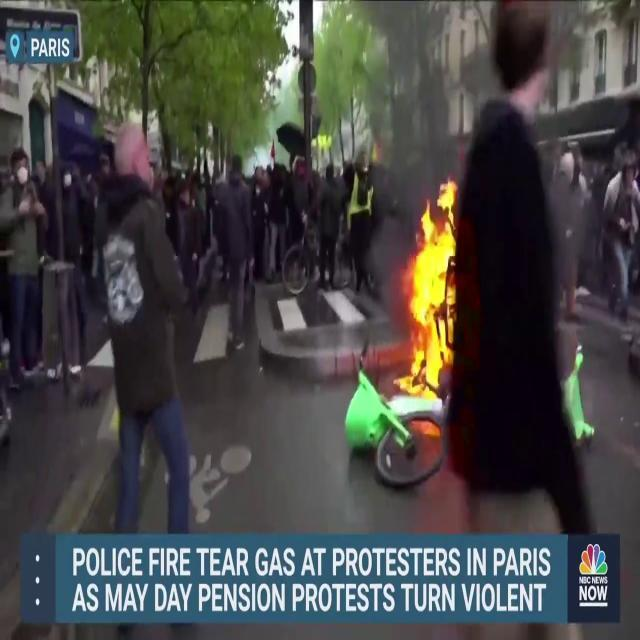Fire: (396, 170, 464, 407)
